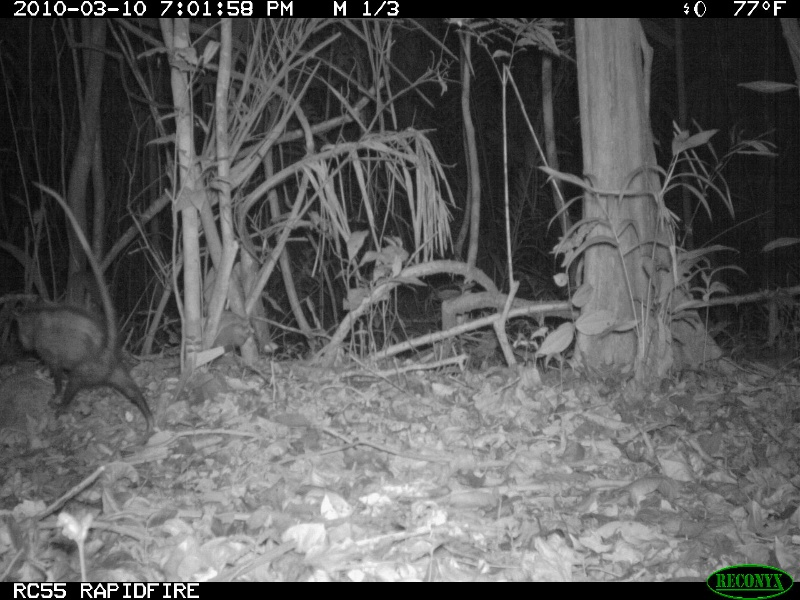opossum: (1, 178, 159, 437)
